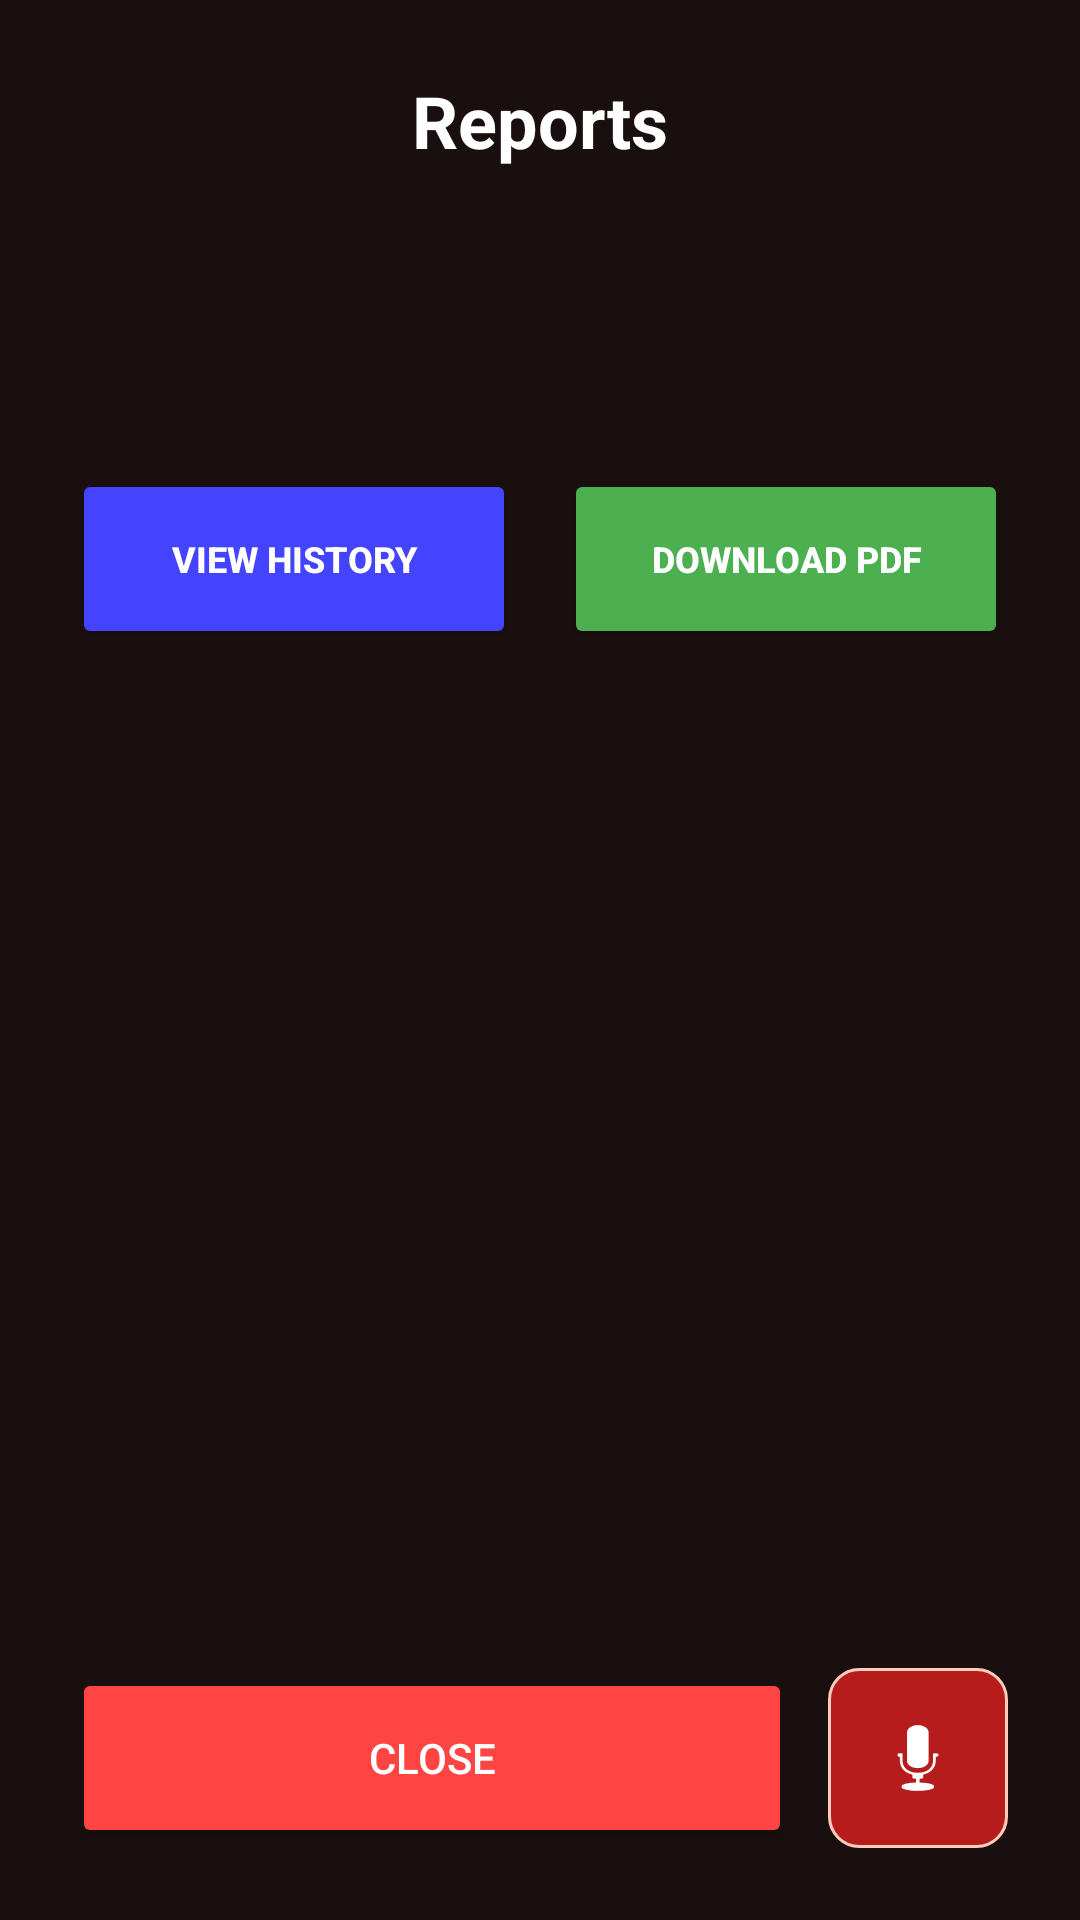

Locate icon controls on the screen. Image size 1080 × 1920, boxes as (x1, y1, x2, y2).
Voice Command: (828, 1668, 1008, 1848)
